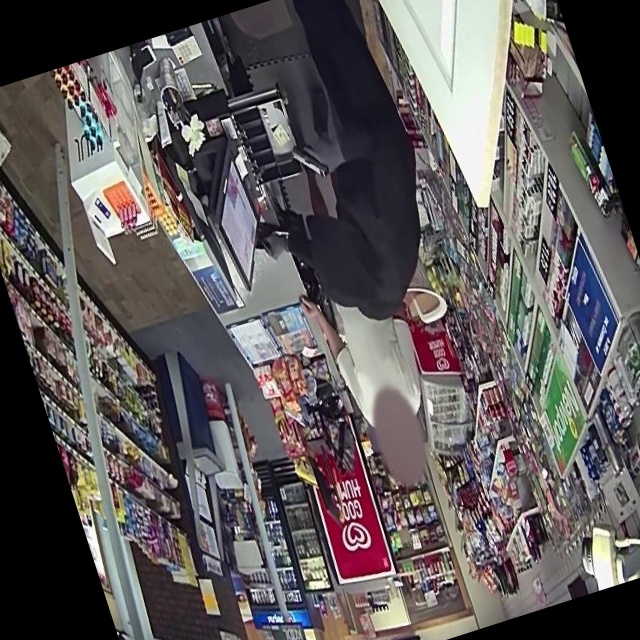gun: (281, 125, 343, 194)
